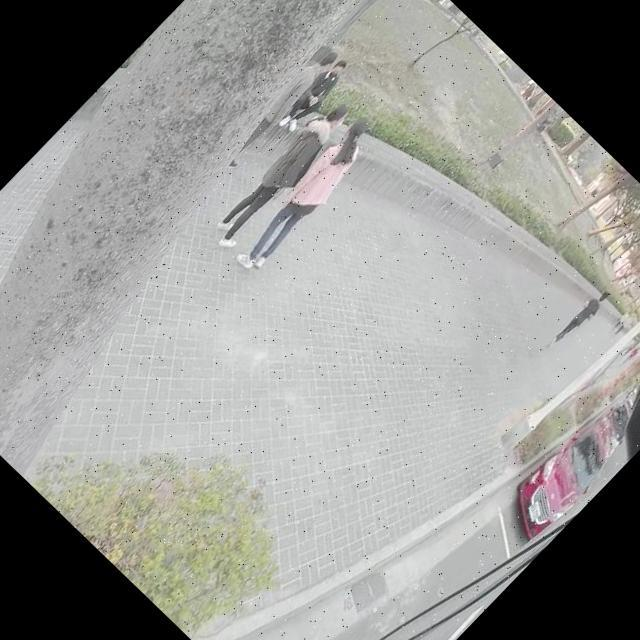person: (206, 96, 356, 250), (234, 122, 380, 273), (219, 44, 342, 170), (277, 56, 353, 134), (544, 286, 610, 353)
